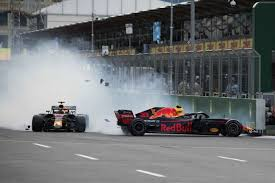f1_car: (109, 98, 269, 149), (26, 95, 98, 141)
